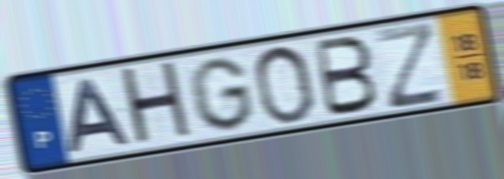A: (65, 76, 135, 156)
B: (313, 33, 381, 120)
G: (186, 54, 257, 133)
H: (117, 57, 197, 151)
O: (250, 42, 317, 127)
Z: (372, 18, 448, 113)
